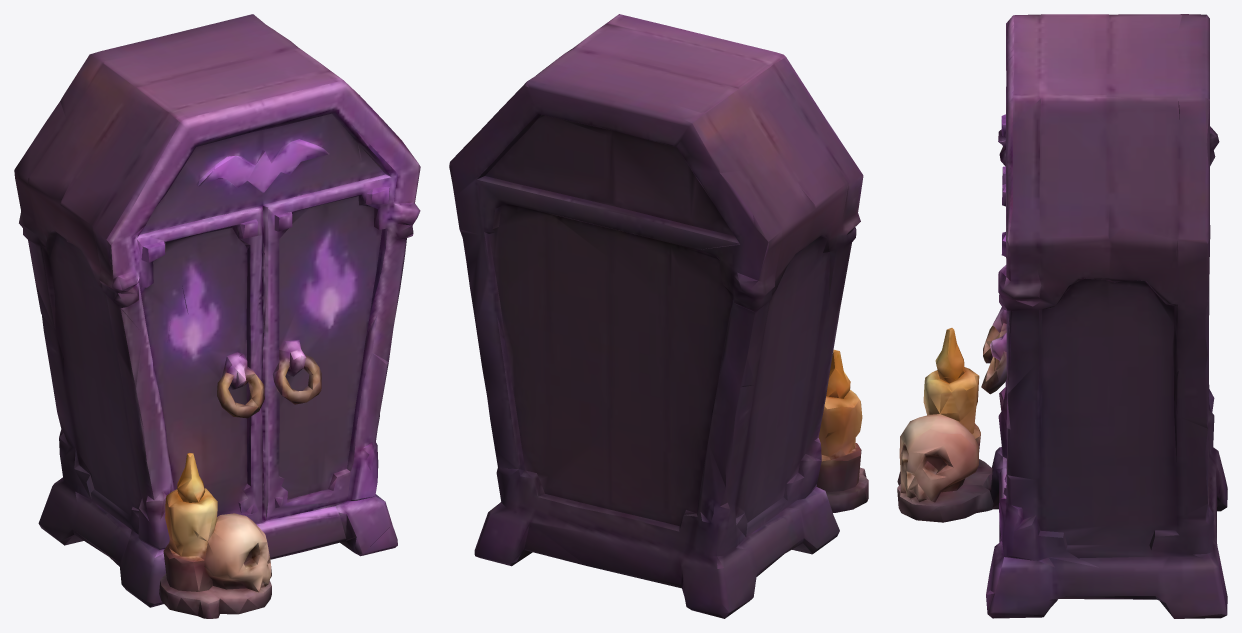
Rendered from cabinet14.glb.
3 renders of one model, left to right at view 1: azimuth 30°, elevation 25°; view 2: azimuth 150°, elevation 25°; view 3: azimuth 270°, elevation 25°, orthographic. The views are drawn at different scales.
Size of the model in its own units: 0.2007 by 0.2875 by 0.172.
Materials: 1 (1 with a texture image).
